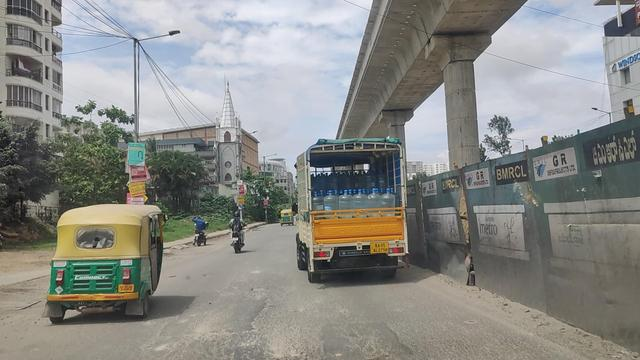HMV: (286, 143, 407, 283)
LMV: (55, 208, 159, 310), (231, 213, 245, 251), (193, 212, 207, 247)
RoadDamages: (310, 317, 408, 360), (189, 320, 259, 359), (240, 280, 274, 305)
